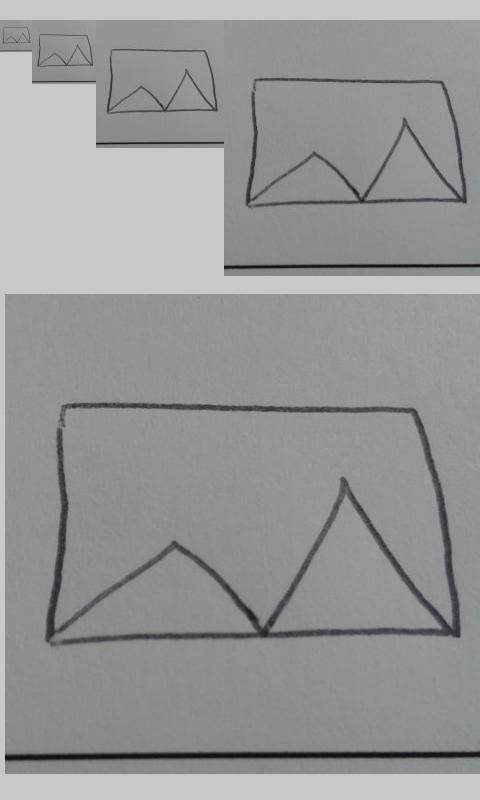image_view: (48, 396, 459, 645), (245, 77, 467, 208), (106, 47, 219, 114), (37, 33, 94, 68), (2, 26, 31, 44)
